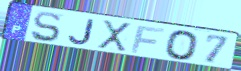7: (204, 34, 230, 66)
F: (129, 25, 167, 54)
J: (66, 18, 97, 46)
O: (164, 30, 200, 62)
S: (29, 11, 62, 44)
X: (97, 19, 133, 53)
